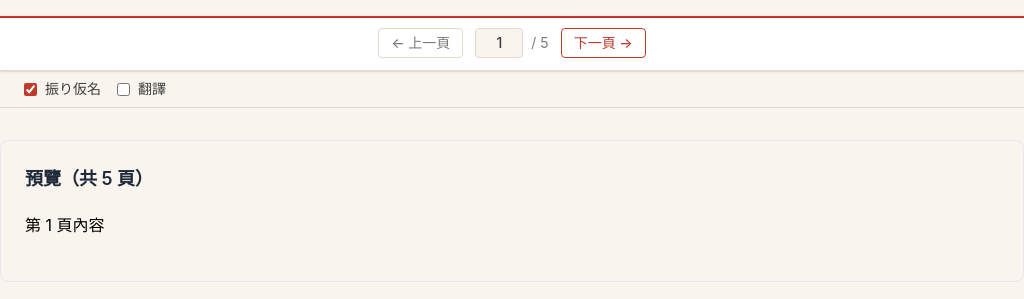
PagedPreview › 輸入頁碼 3 並按 Enter 跳頁
Replace the text in the number field showing "1" with "3": (499, 43) [475,28,523,58]
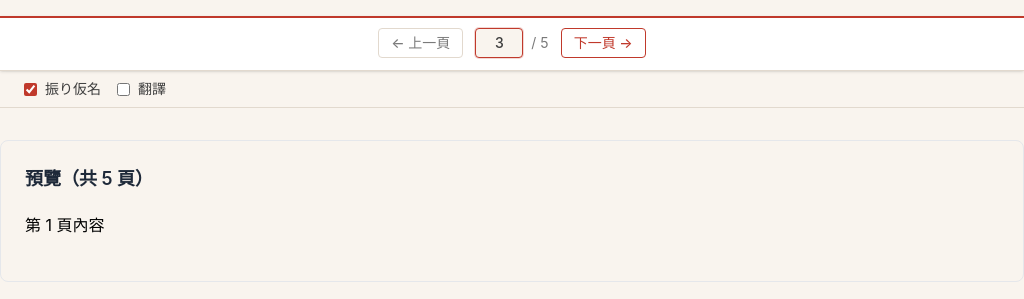
Press Enter
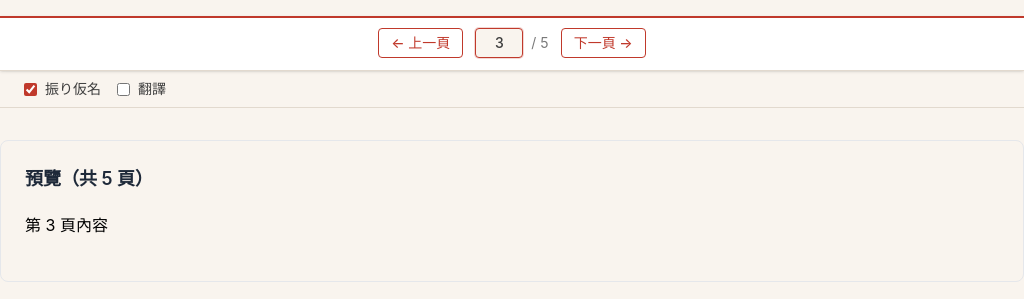
Expected: the text "第 3 頁內容" is shown, [25,215,108,235]
